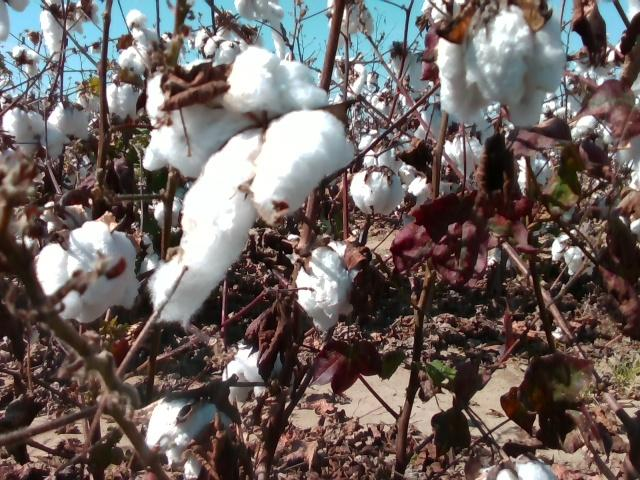cotton_ready: (145, 46, 356, 323), (437, 0, 566, 126), (36, 220, 140, 324), (144, 393, 239, 479), (285, 233, 363, 333), (0, 108, 73, 161), (223, 341, 288, 400), (234, 0, 285, 60), (349, 170, 404, 218), (41, 0, 85, 58), (326, 0, 375, 46), (390, 42, 429, 95), (477, 455, 557, 480), (602, 113, 640, 164), (442, 133, 487, 176), (126, 9, 172, 50), (552, 234, 595, 275), (48, 101, 90, 139), (106, 83, 145, 121), (362, 139, 406, 171), (415, 102, 449, 143), (517, 155, 550, 197), (570, 114, 605, 151), (0, 0, 30, 42), (141, 234, 165, 285), (154, 197, 185, 232), (421, 0, 468, 22), (118, 45, 148, 78), (196, 26, 225, 55), (77, 82, 104, 113), (567, 81, 592, 112), (214, 41, 243, 66), (217, 10, 242, 39), (76, 0, 100, 25)
